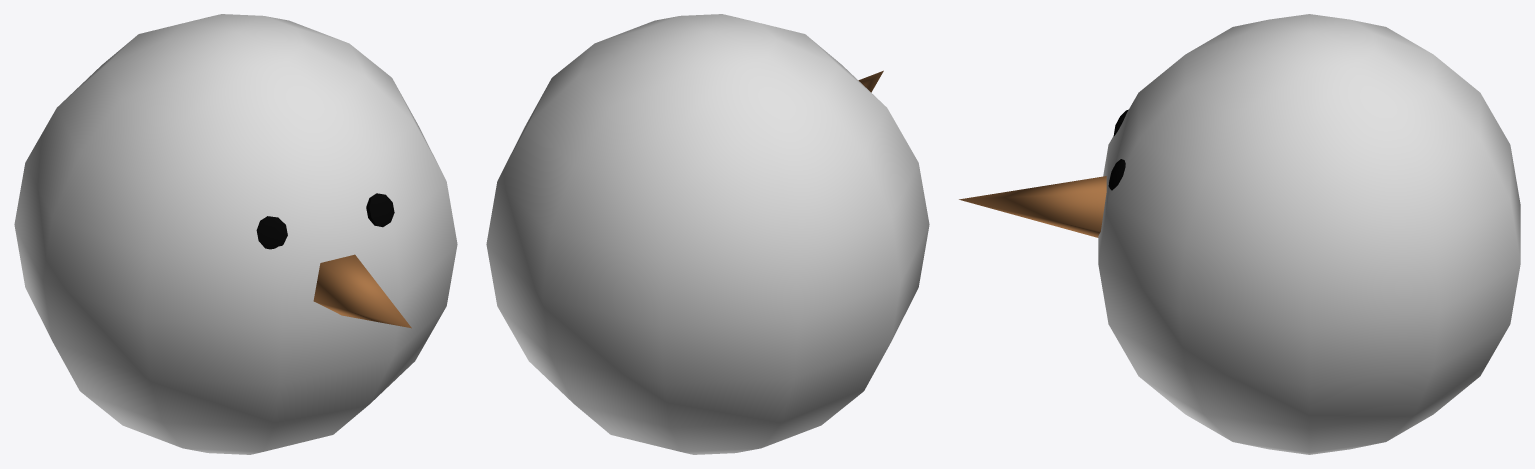
The model's file is NormHead.fbx.
3 renders of one model, left to right at view 1: azimuth 30°, elevation 25°; view 2: azimuth 150°, elevation 25°; view 3: azimuth 270°, elevation 25°, orthographic.
Visible parts, largest first — view 1: pSphere1, pCone1, pSphere2, pSphere3; view 2: pSphere1; view 3: pSphere1, pCone1.
Part boxes in pixels (<box>): pSphere1: <box>14,14,457,454</box>; pCone1: <box>313,254,411,328</box>; pSphere2: <box>256,216,287,249</box>; pSphere3: <box>366,193,394,227</box>; pSphere1: <box>486,14,929,454</box>; pSphere1: <box>1098,14,1520,454</box>; pCone1: <box>959,176,1106,237</box>.
Size of the model in its own units: 0.5 by 0.5 by 0.633.
